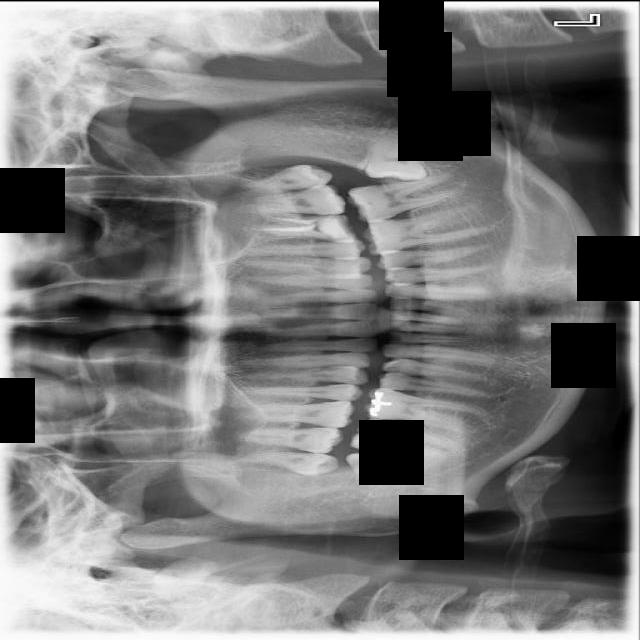3M ESPE Implant: (238, 449, 339, 475)
52: (362, 383, 407, 423), (365, 442, 397, 449)
73: (248, 212, 329, 240), (558, 35, 567, 43)
BioHorizons Implant: (232, 182, 347, 218)
BioLife Implant: (236, 160, 334, 196)
Biomet 3i Implant: (363, 133, 429, 182)
Blue Sky Bio Implant: (345, 169, 468, 227)
Caries: (233, 426, 345, 454)
Implant: (349, 416, 456, 455)
Keystone Dental Implant: (344, 445, 409, 491)
